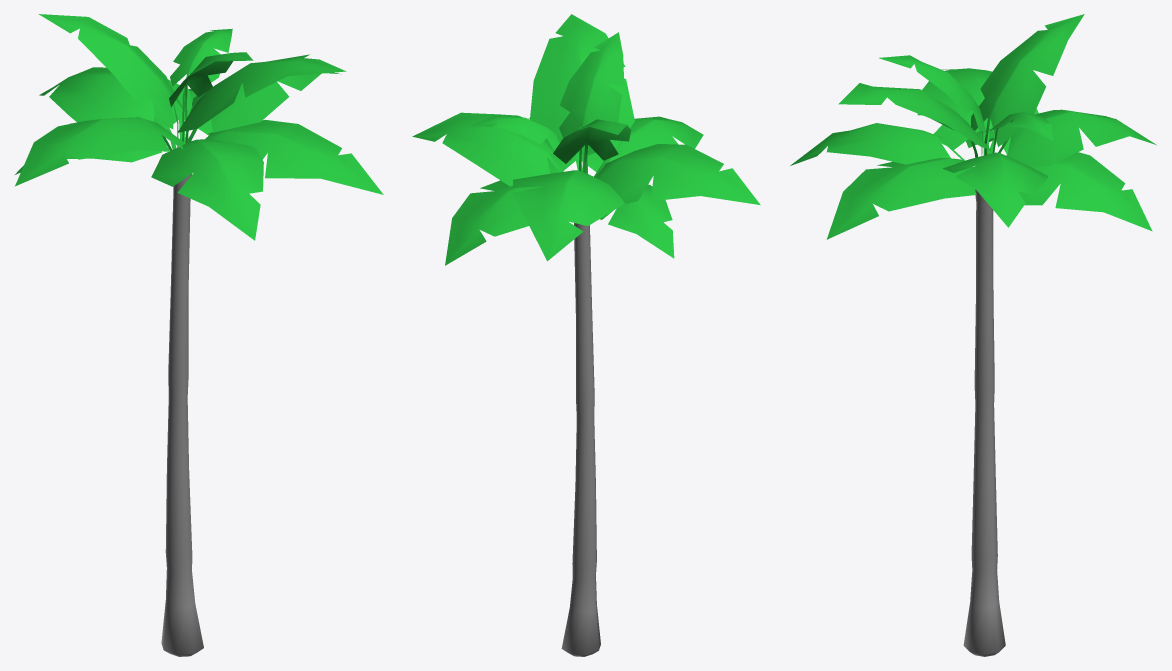
Rendered from Mesh_Beach_Palm03.fbx.
3 renders of one model, left to right at view 1: azimuth 30°, elevation 25°; view 2: azimuth 150°, elevation 25°; view 3: azimuth 270°, elevation 25°, orthographic. The views are drawn at different scales.
Parts seen in each view (by area): view 1: Mesh_Beach_Palm03; view 2: Mesh_Beach_Palm03; view 3: Mesh_Beach_Palm03.
Part boxes in pixels (<box>): Mesh_Beach_Palm03: <box>15,14,383,656</box>; Mesh_Beach_Palm03: <box>412,14,760,656</box>; Mesh_Beach_Palm03: <box>790,14,1156,656</box>.
Size of the model in its own units: 7.58 by 12.89 by 7.17.
